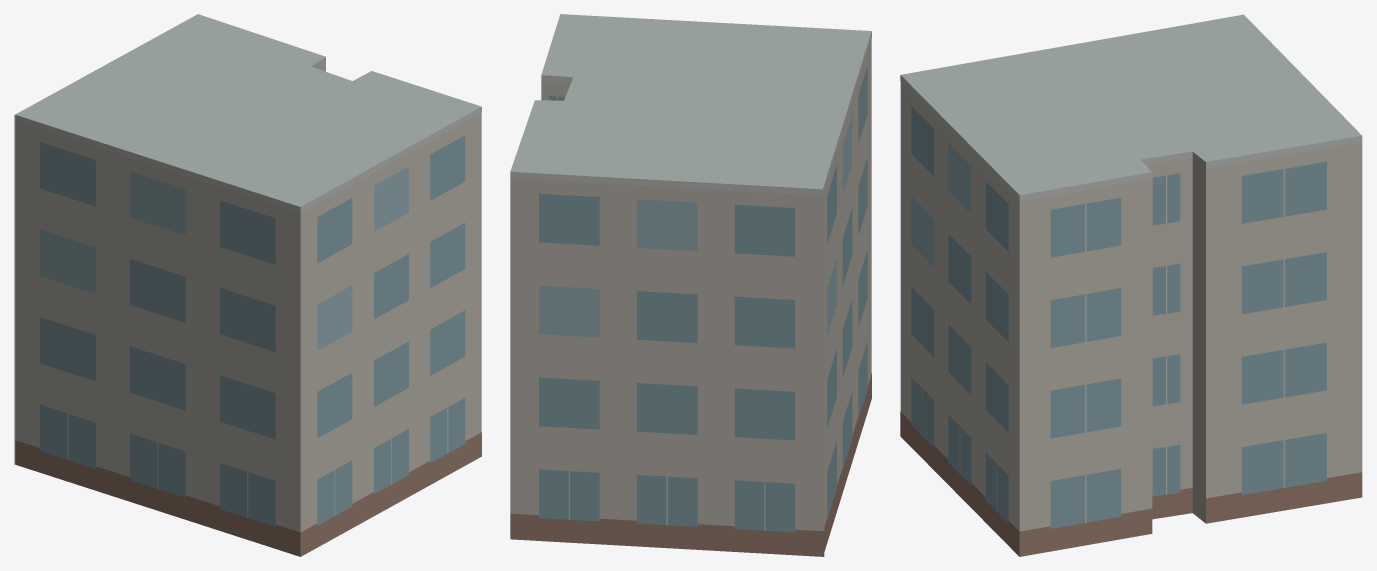
File: survey-upis-32598108.glb
The picture shows the model from 3 angles, left to right: view 1: azimuth 30°, elevation 25°; view 2: azimuth 150°, elevation 25°; view 3: azimuth 270°, elevation 25°; orthographic projection. The views are drawn at different scales.
Parts seen in each view (by area): view 1: survey-upis-32598108.tmp; view 2: survey-upis-32598108.tmp; view 3: survey-upis-32598108.tmp.
Part boxes in pixels (x1=…): survey-upis-32598108.tmp: x1=14, y1=14, x2=481, y2=556; survey-upis-32598108.tmp: x1=510, y1=14, x2=871, y2=556; survey-upis-32598108.tmp: x1=900, y1=14, x2=1362, y2=556.
Size of the model in its own units: 14.84 by 13.8 by 15.98.
